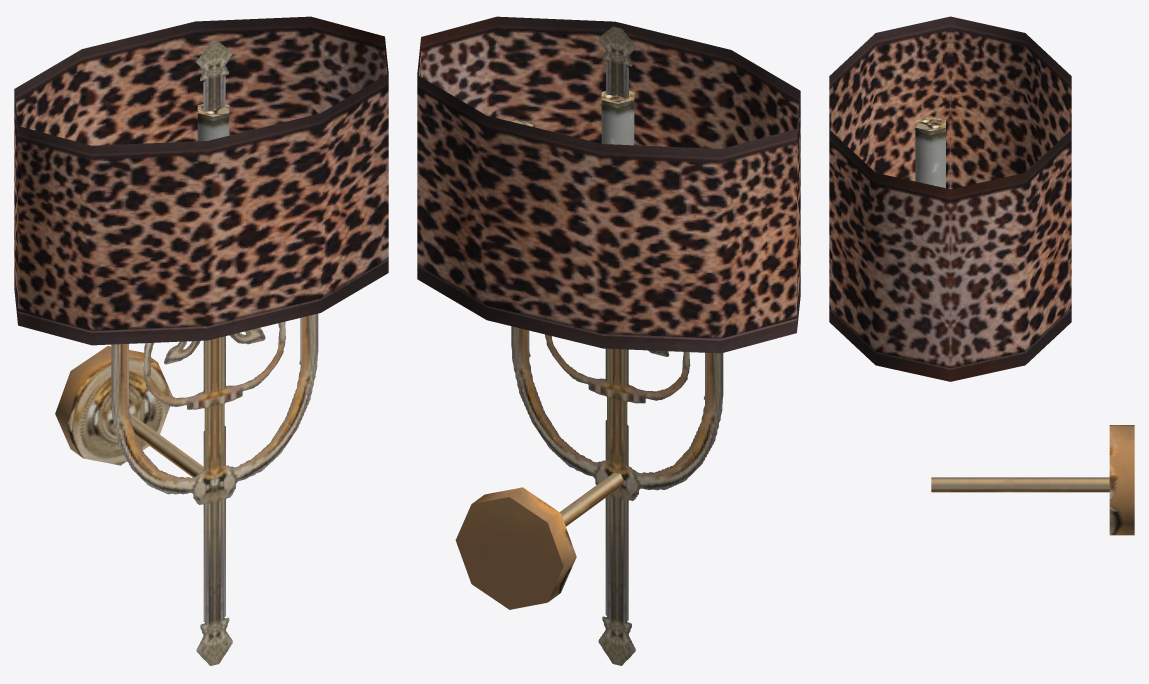
File: furni_0200149.FBX
The picture shows the model from 3 angles, left to right: view 1: azimuth 30°, elevation 25°; view 2: azimuth 150°, elevation 25°; view 3: azimuth 270°, elevation 25°; orthographic projection. The views are drawn at different scales.
Visible parts, largest first — view 1: furni_0200149; view 2: furni_0200149; view 3: furni_0200149.
Part boxes in pixels (<box>): furni_0200149: <box>14,16,388,665</box>; furni_0200149: <box>417,16,800,665</box>; furni_0200149: <box>829,16,1134,535</box>.
Size of the model in its own units: 33.28 by 53.94 by 24.85.
Materials: 1 (1 with a texture image).
